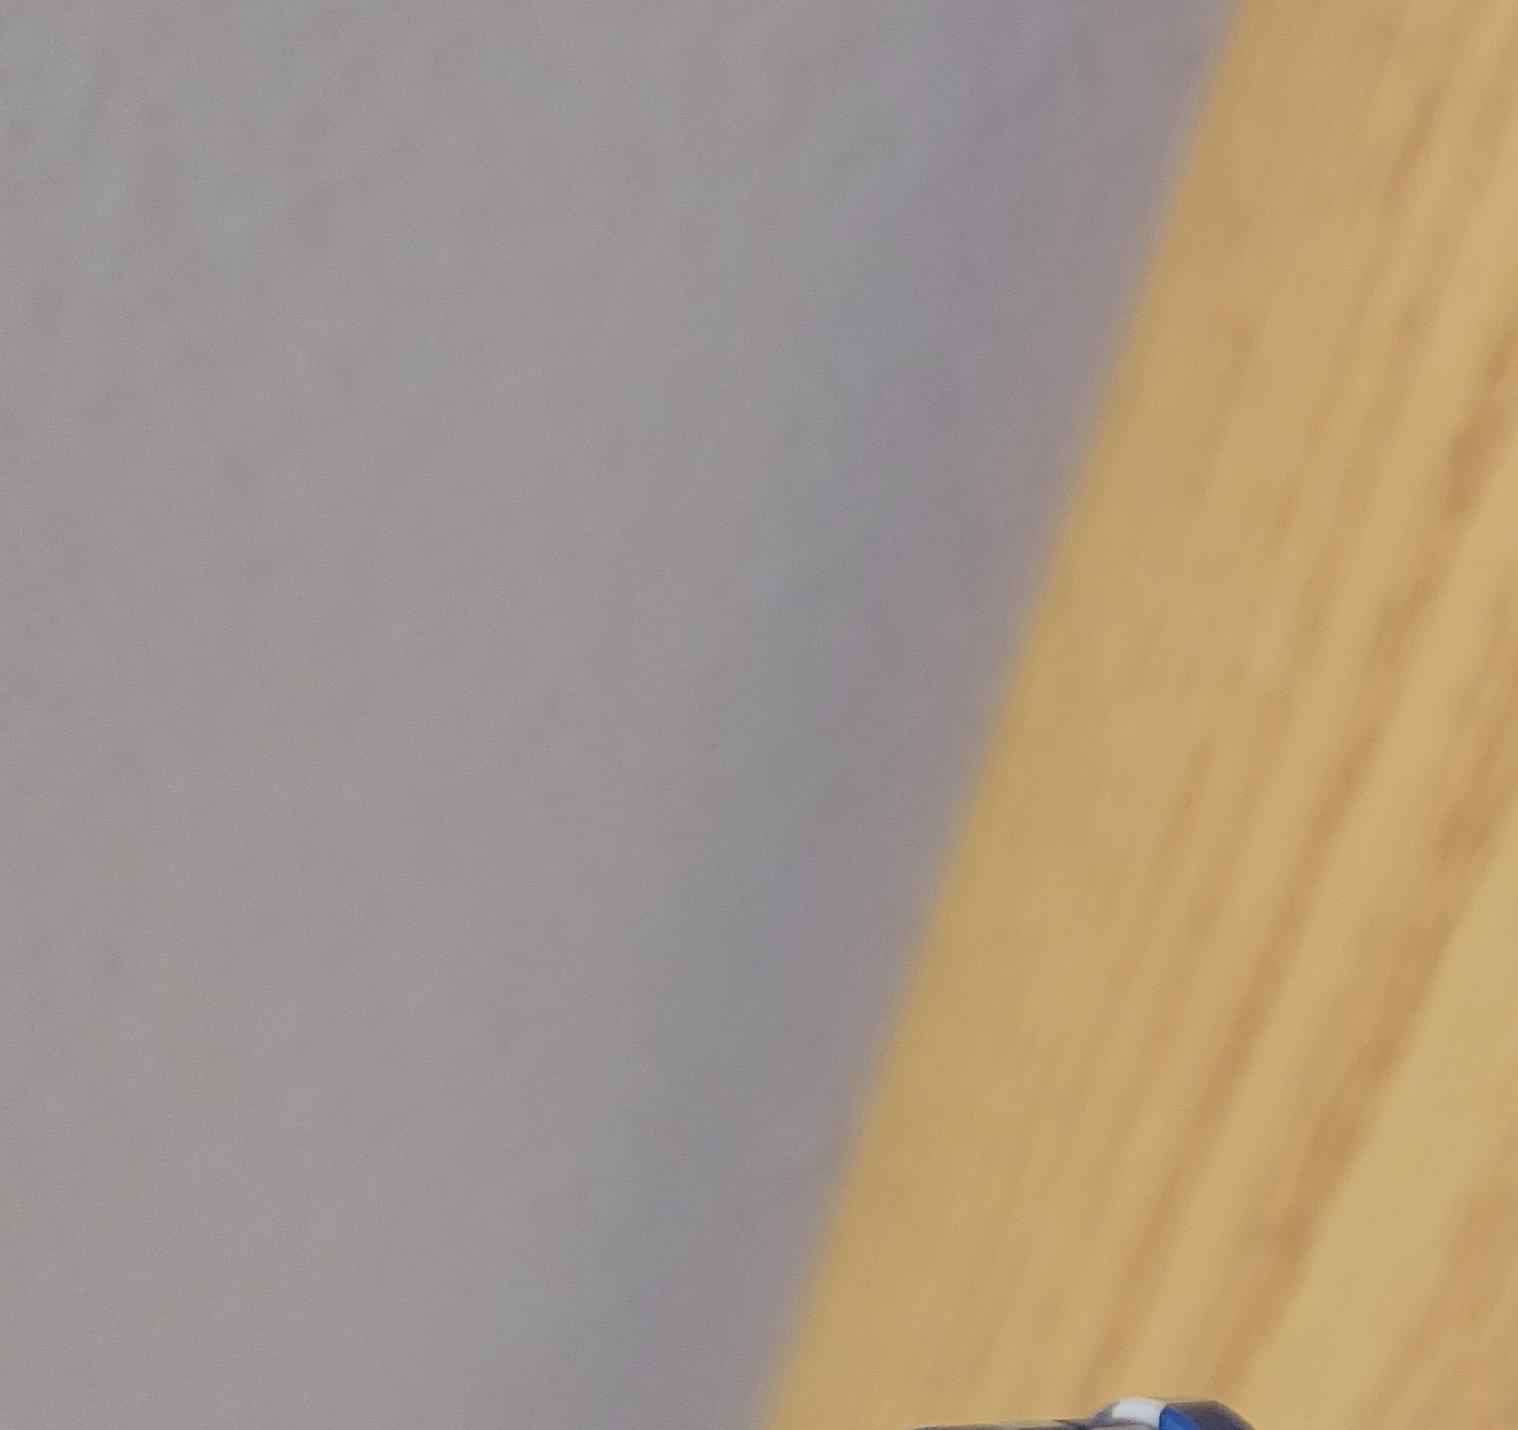Chip: (1, 175, 1114, 1430)
